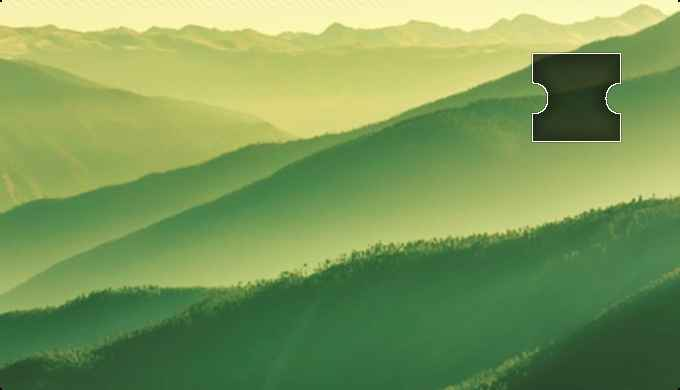gap: (532, 54, 620, 140)
